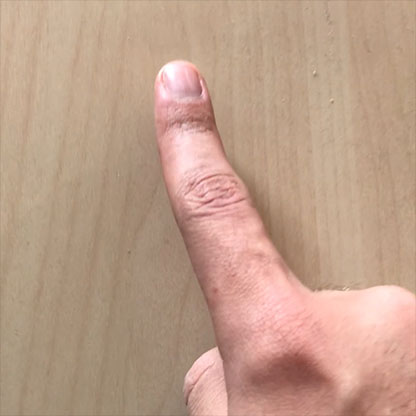fingertip: (146, 51, 220, 123)
